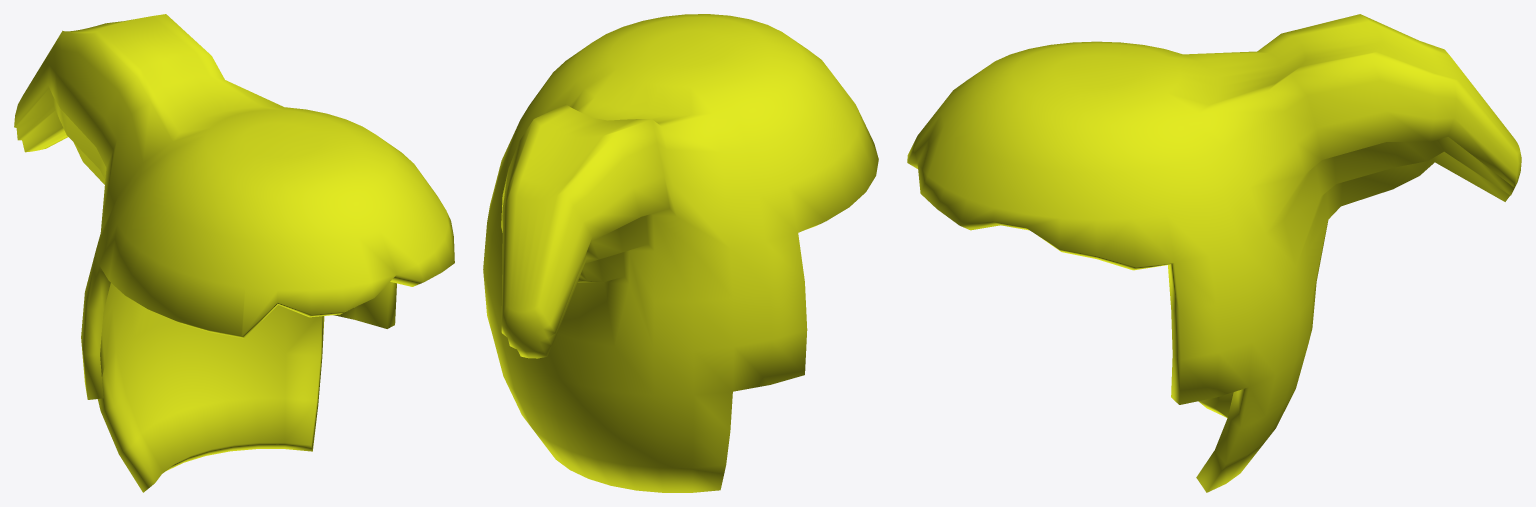
The model's file is Hair002.fbx.
3 renders of one model, left to right at view 1: azimuth 30°, elevation 25°; view 2: azimuth 150°, elevation 25°; view 3: azimuth 270°, elevation 25°, orthographic. The views are drawn at different scales.
Parts seen in each view (by area): view 1: Head.003; view 2: Head.003; view 3: Head.003.
Part boxes in pixels (left/top/right/bottom): Head.003: left=14, top=14, right=454, bottom=492; Head.003: left=483, top=14, right=878, bottom=492; Head.003: left=907, top=14, right=1521, bottom=492.
Bounding box in the file's own units: 288 × 350 × 479.
